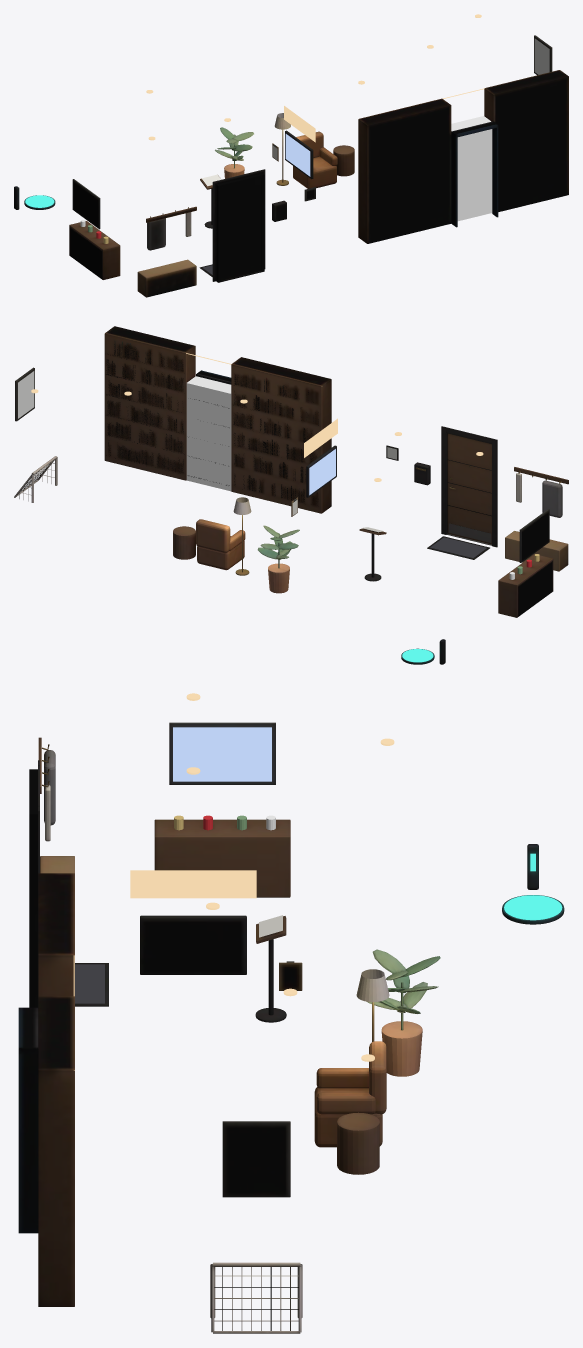
Rendered from entry.glb.
3 renders of one model, top to bottom at view 1: azimuth 30°, elevation 25°; view 2: azimuth 150°, elevation 25°; view 3: azimuth 270°, elevation 25°, orthographic. The views are drawn at different scales.
Parts seen in each view (by area): view 1: entry_baked, secret_door, screen_about, screen_jersey, neon; view 2: entry_baked, secret_door, screen_about, screen_doormat, screen_jersey, neon; view 3: entry_baked, screen_holiday, neon, screen_doormat, bh_dock_ring.
Boxes of the visible parts, x1,y1,x2,y2 form: entry_baked: (14,35,568,297); secret_door: (451,116,492,221); screen_about: (285,134,310,176); screen_jersey: (534,38,549,74); neon: (284,106,315,142); entry_baked: (14,326,568,664); secret_door: (186,376,231,491); screen_about: (309,449,335,495); screen_doormat: (430,537,486,557); screen_jersey: (18,371,34,418); neon: (304,418,337,457); entry_baked: (18,722,564,1333); screen_holiday: (173,727,271,781); neon: (130,870,256,898); screen_doormat: (75,964,104,1003); bh_dock_ring: (504,895,562,920).
Bounding box in the file's own units: 11.1 × 2.75 × 5.62.
19 materials, 1 textured.
